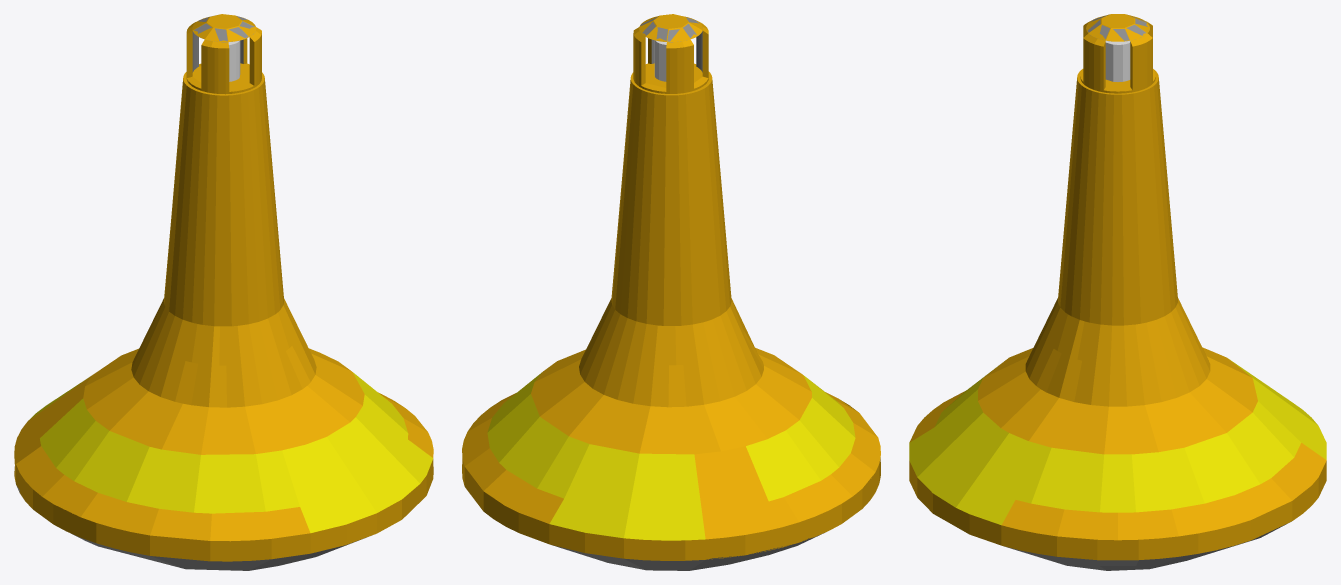
Rendered from BuoyLOD1.fbx.
3 views of the same model, side by side, from view 1: azimuth 30°, elevation 25°; view 2: azimuth 150°, elevation 25°; view 3: azimuth 270°, elevation 25° (orthographic).
Visible parts, largest first — view 1: Base.001, Top.001; view 2: Base.001, Top.001; view 3: Base.001, Top.001, Light.001.
Part boxes in pixels (box(x1,y1,x2,y2)): Base.001: box(14, 72, 433, 570); Top.001: box(186, 14, 261, 94); Base.001: box(462, 71, 880, 570); Top.001: box(633, 14, 708, 93); Base.001: box(909, 69, 1326, 570); Top.001: box(1080, 14, 1155, 93); Light.001: box(1105, 40, 1130, 81).
Size of the model in its own units: 255 by 339 by 254.
